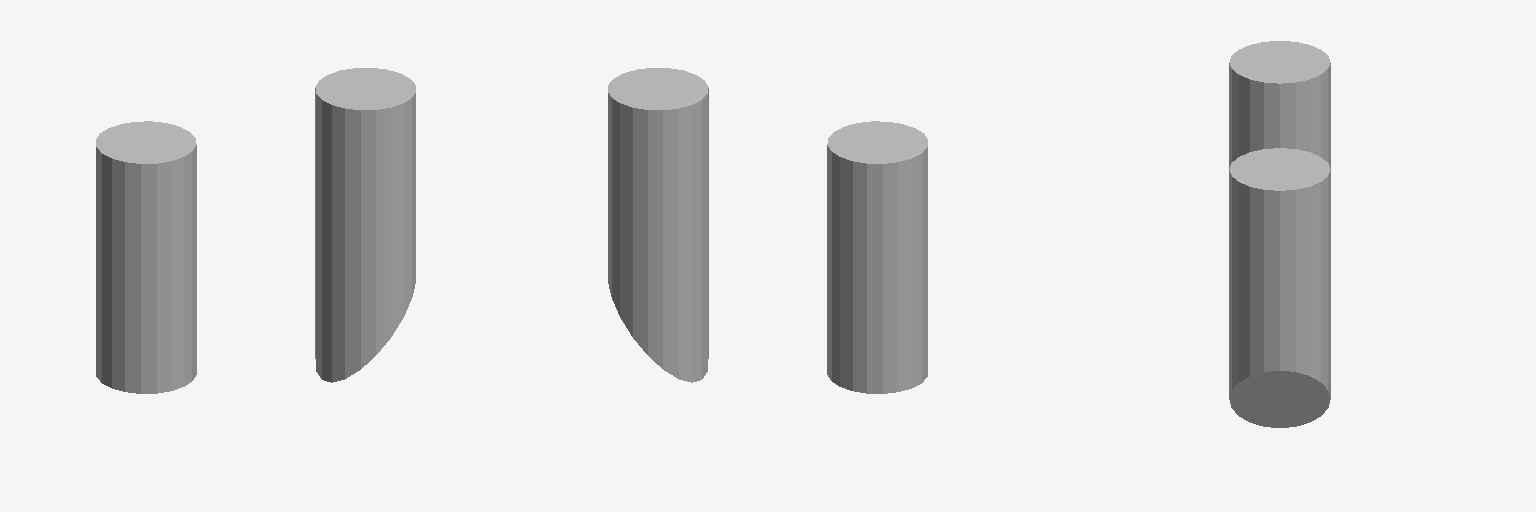
File: CustomizedShearBottomCylinder.obj
The picture shows the model from 3 angles: view 1: azimuth 30°, elevation 25°; view 2: azimuth 150°, elevation 25°; view 3: azimuth 270°, elevation 25°; orthographic projection.
Parts seen in each view (by area): view 1: obj_[number redacted], obj_[number redacted]; view 2: obj_[number redacted], obj_[number redacted]; view 3: obj_[number redacted], obj_[number redacted].
Part boxes in pixels (bbox=[...]): obj_[number redacted]: bbox=[315, 68, 415, 382]; obj_[number redacted]: bbox=[96, 121, 196, 393]; obj_[number redacted]: bbox=[608, 68, 708, 382]; obj_[number redacted]: bbox=[827, 121, 927, 393]; obj_[number redacted]: bbox=[1229, 148, 1330, 427]; obj_[number redacted]: bbox=[1229, 41, 1330, 168].
Bounding box in the file's own units: 14 × 12.19 × 4.